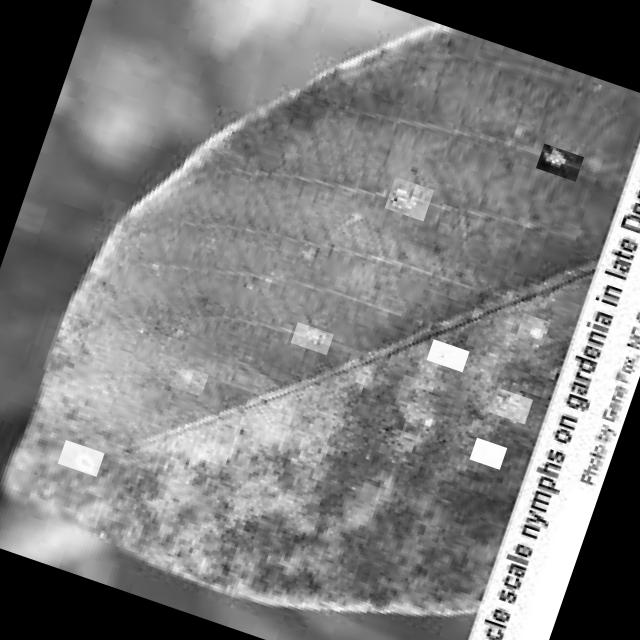scale_insect: (384, 176, 434, 220), (536, 142, 584, 180), (58, 438, 104, 476), (489, 386, 534, 424), (291, 321, 334, 354), (426, 338, 469, 371), (168, 362, 208, 396), (469, 436, 507, 468), (516, 312, 550, 345)
